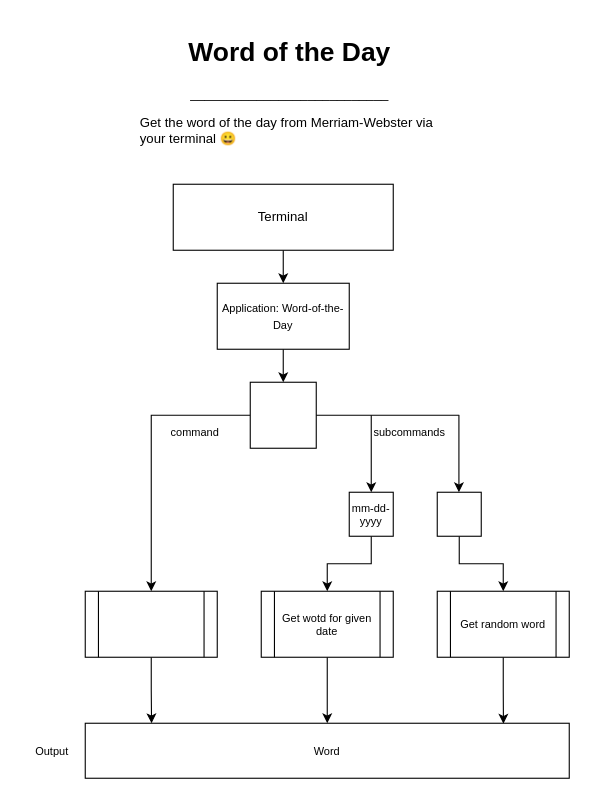
The diagram is 589 pixels wide and 798 high, and some of its shapes have lost their labels. The centre of each missing label's shape, as x and y in pixels:
Get wotd: the point at 150,623
random: the point at 458,513
wotd: the point at 282,414
